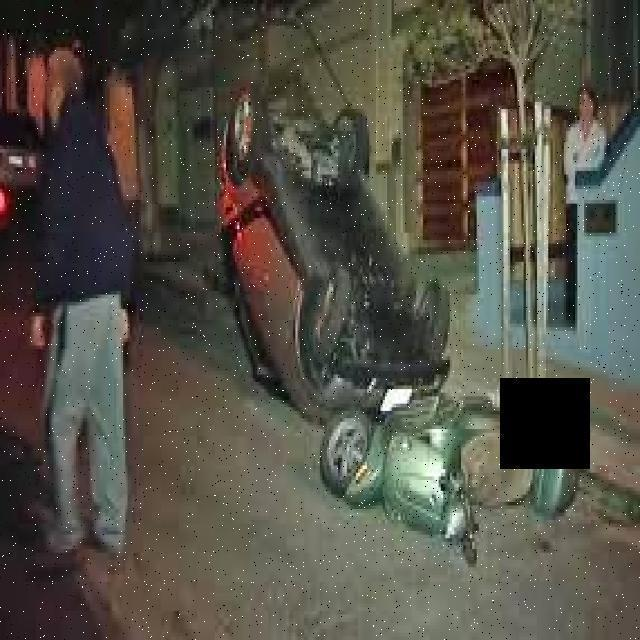accident: (211, 71, 455, 427)
